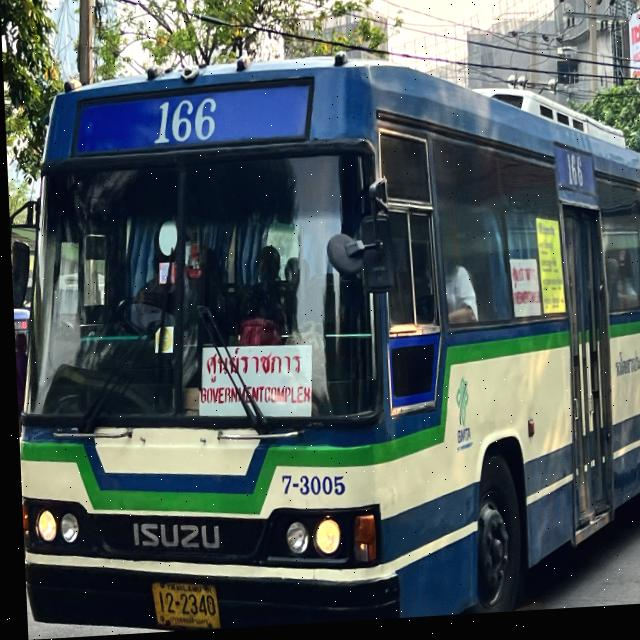BMTA-bus: (2, 37, 640, 640)
Bus Line Number: (134, 87, 237, 157)
Bus Side Number: (273, 466, 347, 510)
Destination Sign: (191, 343, 312, 425)
